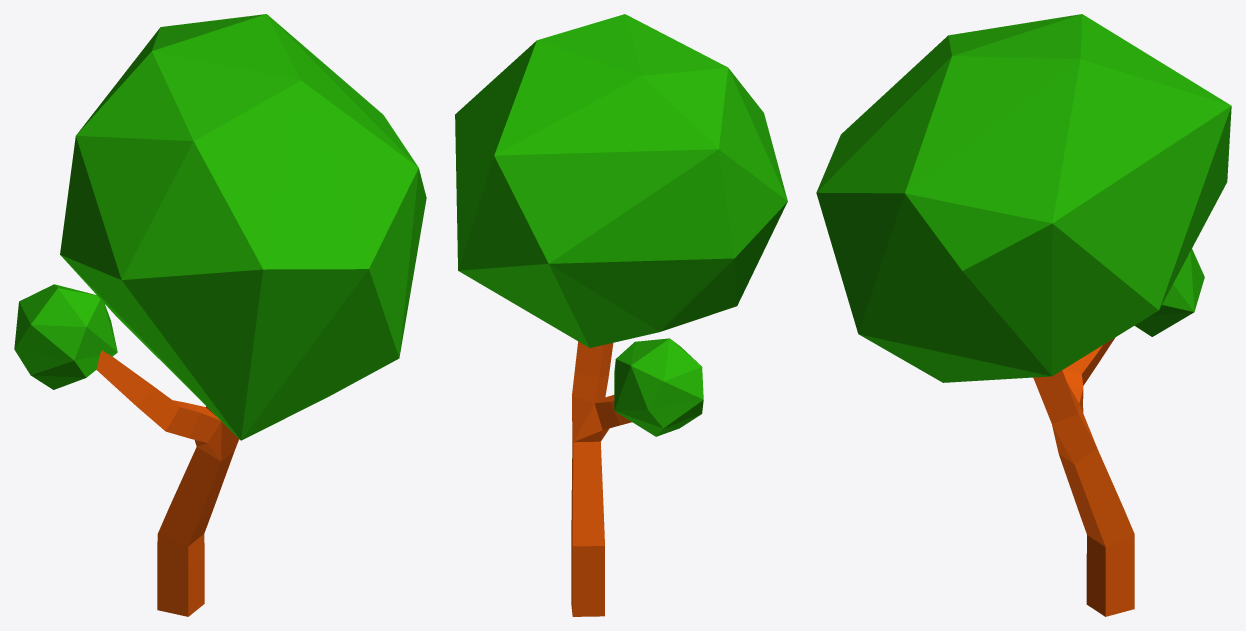
The model's file is DobreDrzewov3m2.fbx.
The picture shows the model from 3 angles, left to right: view 1: azimuth 30°, elevation 25°; view 2: azimuth 150°, elevation 25°; view 3: azimuth 270°, elevation 25°; orthographic projection. The views are drawn at different scales.
Visible parts, largest first — view 1: Kula ico.001, Kostka, Kula ico; view 2: Kula ico.001, Kostka, Kula ico; view 3: Kula ico.001, Kostka, Kula ico.
Part boxes in pixels (bbox=[...]): Kula ico.001: bbox=[60, 14, 426, 440]; Kostka: bbox=[96, 350, 239, 616]; Kula ico: bbox=[14, 284, 117, 389]; Kula ico.001: bbox=[455, 14, 787, 347]; Kostka: bbox=[571, 341, 631, 616]; Kula ico: bbox=[614, 338, 703, 436]; Kula ico.001: bbox=[816, 14, 1231, 382]; Kostka: bbox=[1033, 337, 1134, 616]; Kula ico: bbox=[1134, 249, 1204, 336].
Size of the model in its own units: 886 by 1559 by 1009.
